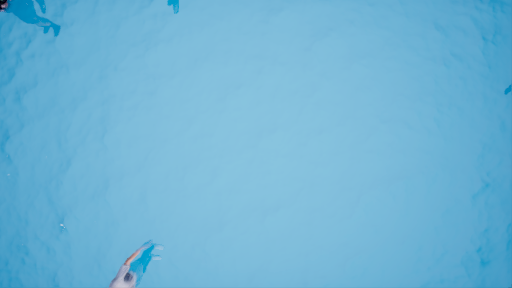person: (99, 235, 166, 288)
